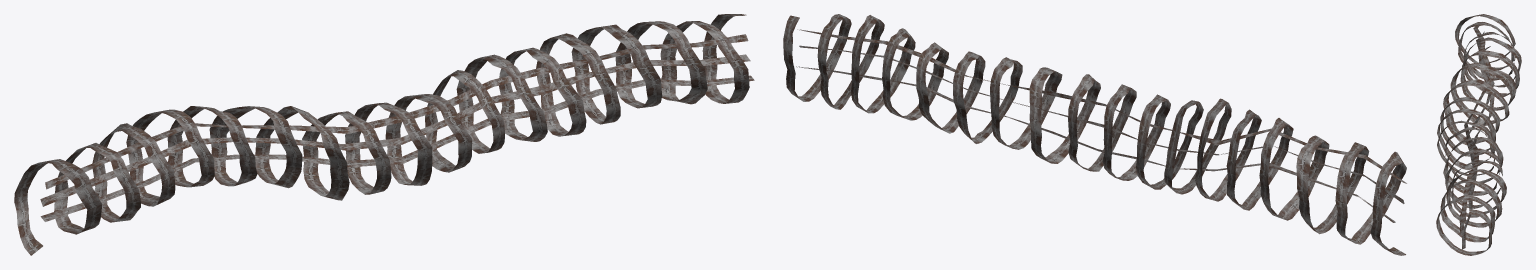
Rendered from Prop_WireNetting.fbx.
3 renders of one model, left to right at view 1: azimuth 30°, elevation 25°; view 2: azimuth 150°, elevation 25°; view 3: azimuth 270°, elevation 25°, orthographic. The views are drawn at different scales.
Visible parts, largest first — view 1: Prop_WireNetting; view 2: Prop_WireNetting; view 3: Prop_WireNetting.
Boxes of the visible parts, x1,y1,x2,y2 form: Prop_WireNetting: (14, 14, 754, 255); Prop_WireNetting: (783, 14, 1406, 255); Prop_WireNetting: (1436, 14, 1521, 255).
Bounding box in the file's own units: 248 × 39.19 × 44.99.
